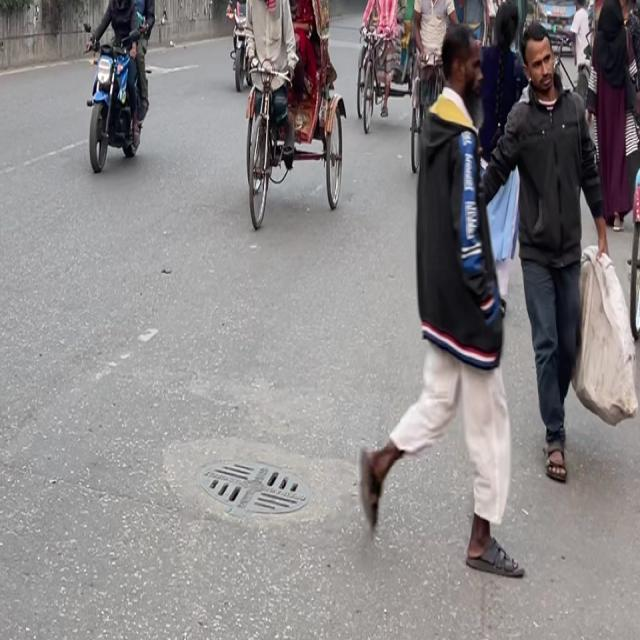motorbike: (71, 0, 181, 180)
